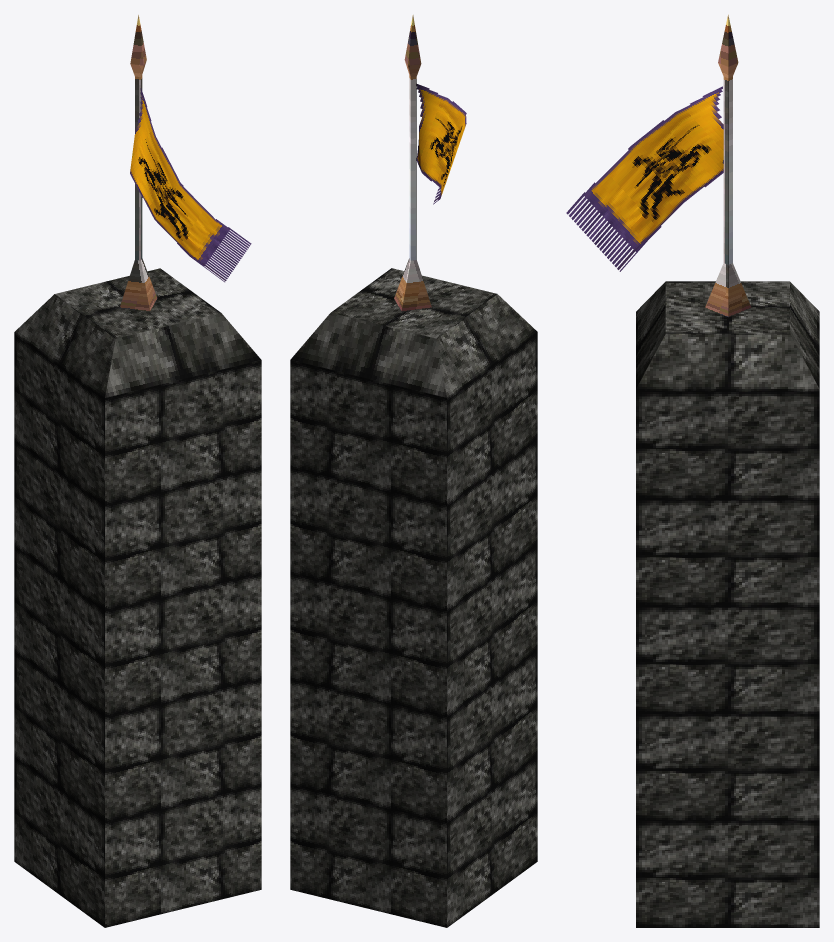
The model's file is StoneWall06.obj.
3 renders of one model, left to right at view 1: azimuth 30°, elevation 25°; view 2: azimuth 150°, elevation 25°; view 3: azimuth 270°, elevation 25°, orthographic.
Visible parts, largest first — view 1: Mesh_2, Mesh_1, Mesh_0; view 2: Mesh_2, Mesh_1, Mesh_0; view 3: Mesh_2, Mesh_1, Mesh_0.
Boxes of the visible parts, bbox=[...] form: Mesh_2: bbox=[14, 268, 261, 927]; Mesh_1: bbox=[130, 88, 251, 282]; Mesh_0: bbox=[119, 15, 157, 311]; Mesh_2: bbox=[290, 268, 537, 927]; Mesh_1: bbox=[416, 84, 466, 204]; Mesh_0: bbox=[394, 15, 431, 311]; Mesh_2: bbox=[636, 281, 819, 927]; Mesh_1: bbox=[566, 86, 723, 271]; Mesh_0: bbox=[705, 14, 751, 317].
Bounding box in the file's own units: 1 × 5.28 × 1.39.
Materials: 3 (3 with a texture image).
